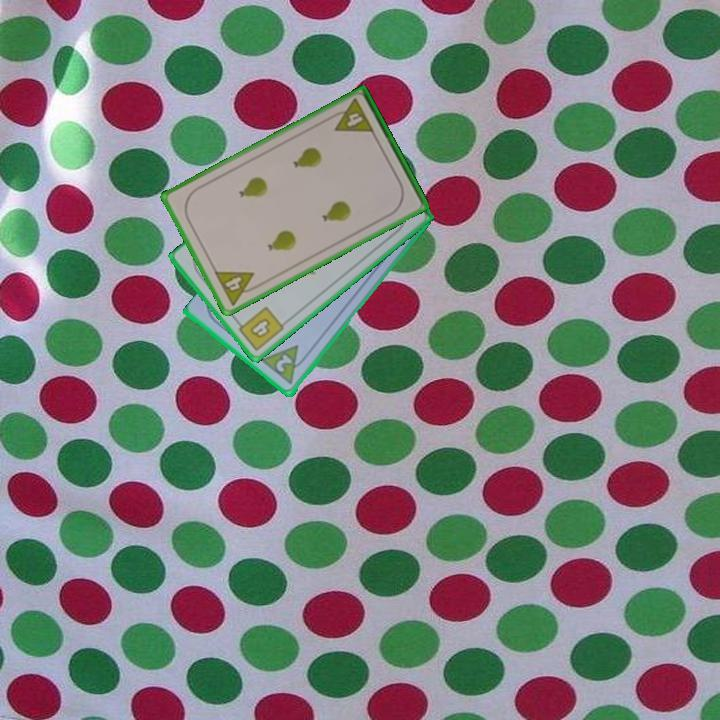2p: (272, 351, 295, 376)
4b: (232, 303, 287, 354)
4p: (211, 267, 263, 309), (326, 95, 377, 136)
